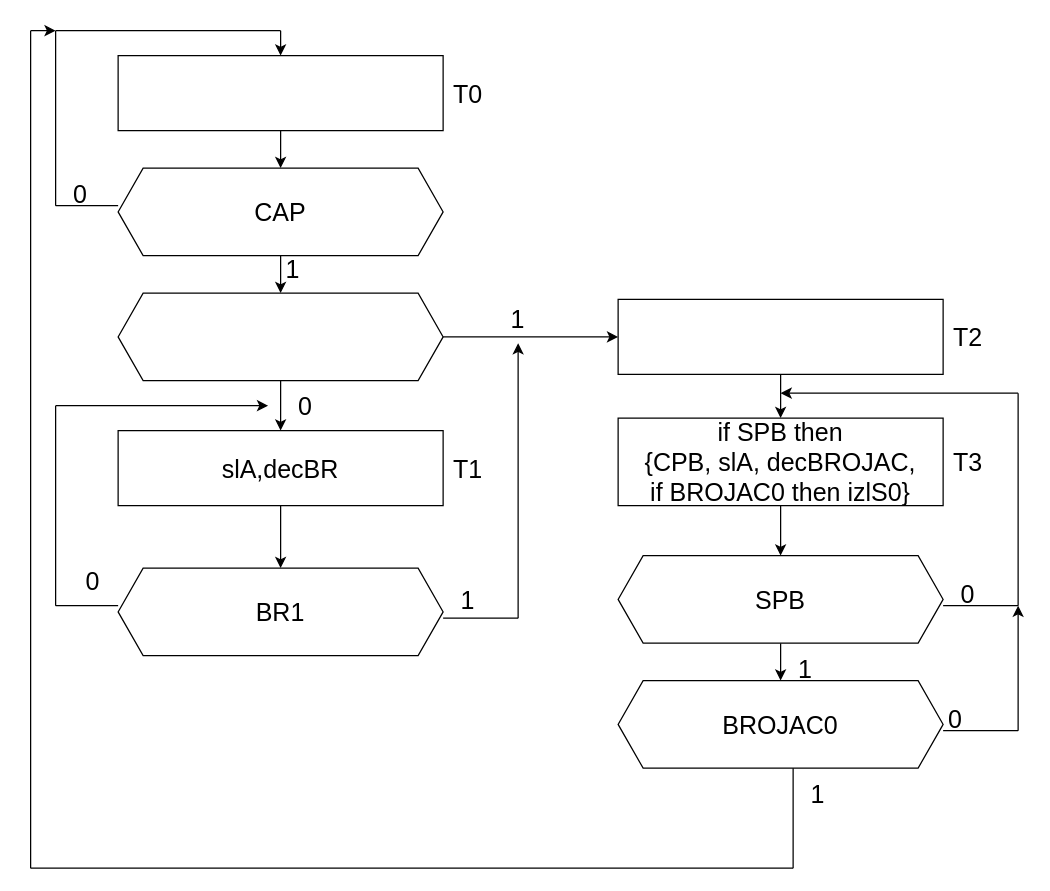
The diagram is 1050 pixels wide and 891 high, and some of its shapes have lost their labels. Here are the shapes that lost their labels. From the top down, the centre of each, then its label:
(280,92): SPA, if CAP then {ldBR, ldBROJAC, ldA}
(280,336): BR0
(780,336): ldZNAK, if A7 then {ulS0,ldA}
